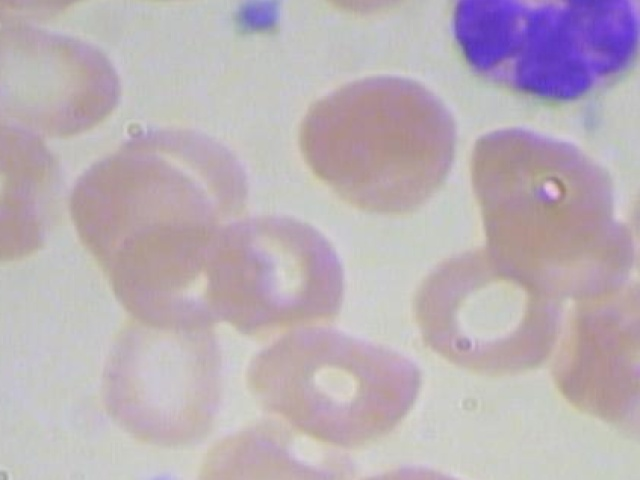Platelets: (228, 0, 288, 41), (129, 465, 190, 480)
RBC: (280, 66, 471, 221), (236, 320, 429, 459), (79, 295, 232, 455), (412, 235, 568, 383), (0, 13, 135, 148), (0, 101, 88, 279), (605, 149, 640, 299), (294, 0, 454, 18), (76, 0, 265, 6)
WBC: (424, 0, 640, 117)
